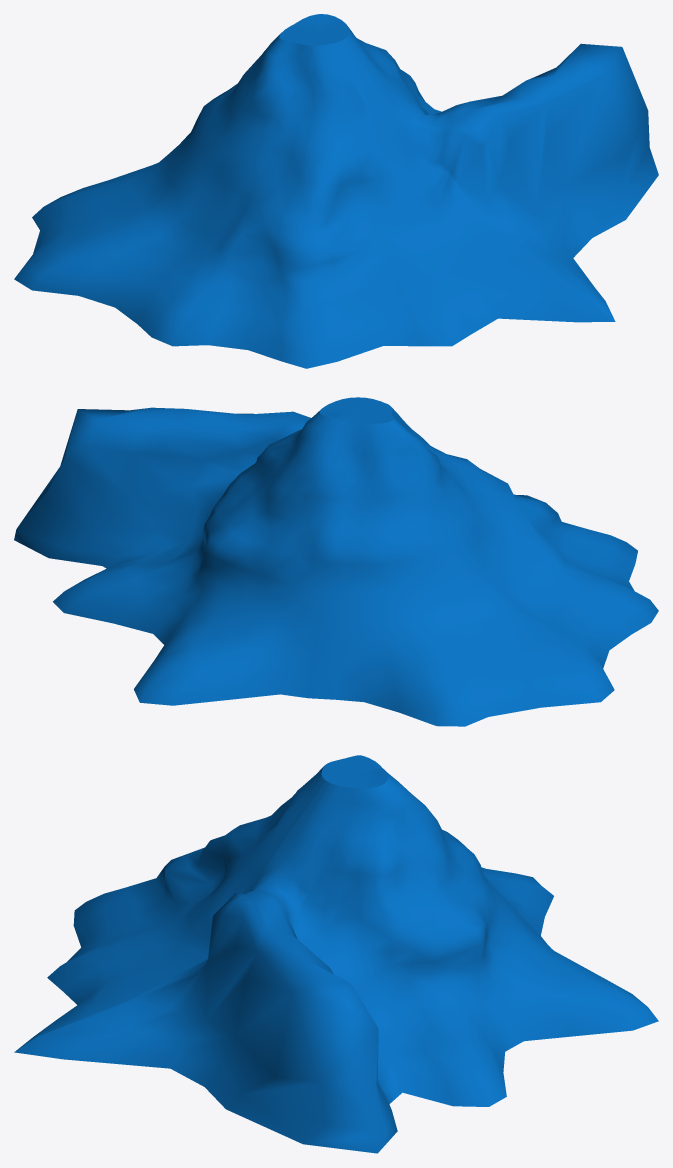
Rendered from Mountain 1.FBX.
3 renders of one model, top to bottom at view 1: azimuth 30°, elevation 25°; view 2: azimuth 150°, elevation 25°; view 3: azimuth 270°, elevation 25°, orthographic. The views are drawn at different scales.
Visible parts, largest first — view 1: Mountain001; view 2: Mountain001; view 3: Mountain001.
Part boxes in pixels (x1,y1,x2,y2): Mountain001: [14, 14, 658, 368]; Mountain001: [14, 397, 658, 726]; Mountain001: [14, 755, 658, 1153].
Size of the model in its own units: 15407 by 4969 by 13629.
